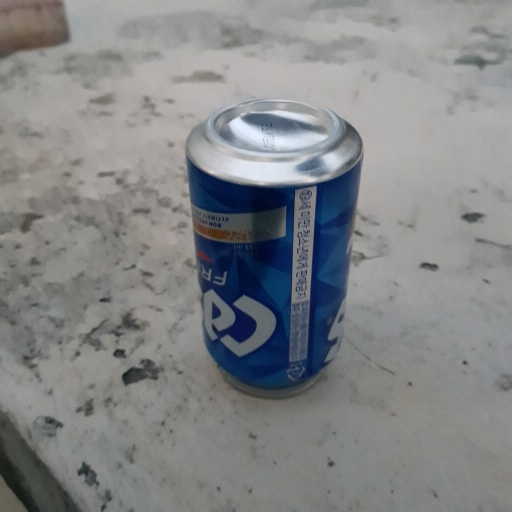Metal_0: (183, 97, 364, 404)
